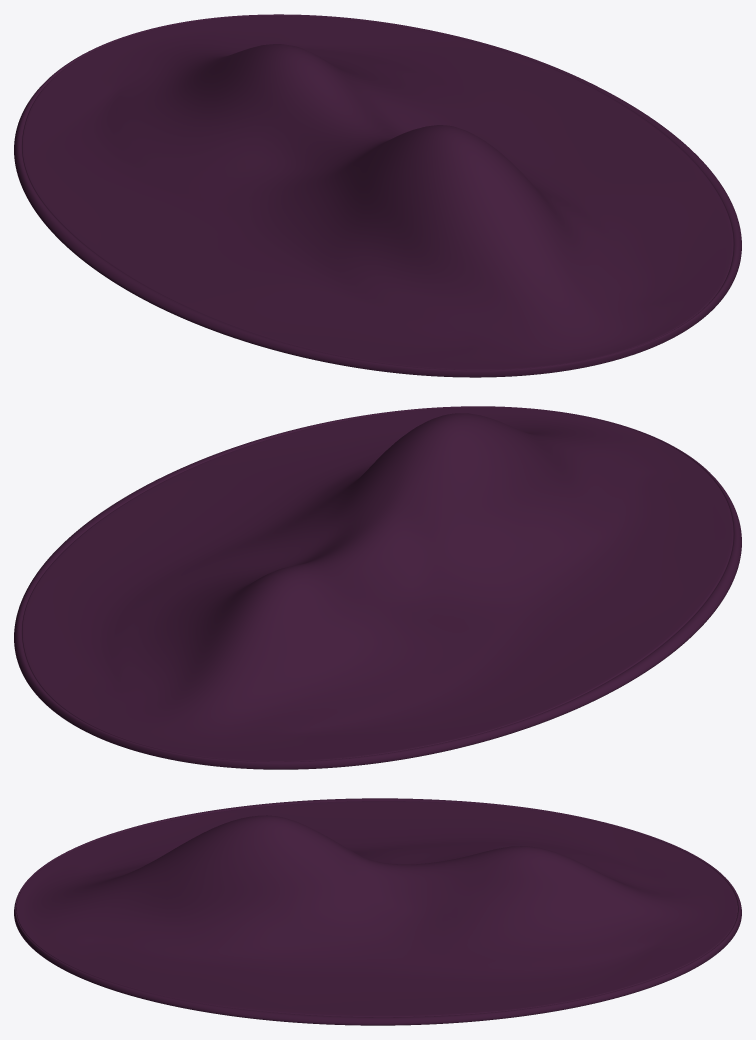
Rendered from vibepad_HP.fbx.
3 views of the same model, one above another, from view 1: azimuth 30°, elevation 25°; view 2: azimuth 150°, elevation 25°; view 3: azimuth 270°, elevation 25° (orthographic). The views are drawn at different scales.
Visible parts, largest first — view 1: vibepad; view 2: vibepad; view 3: vibepad.
Boxes of the visible parts, <box> form: vibepad: <box>14,14,741,377</box>; vibepad: <box>14,406,741,769</box>; vibepad: <box>14,798,741,1025</box>.
Size of the model in its own units: 21.32 by 4.2 by 29.19.
